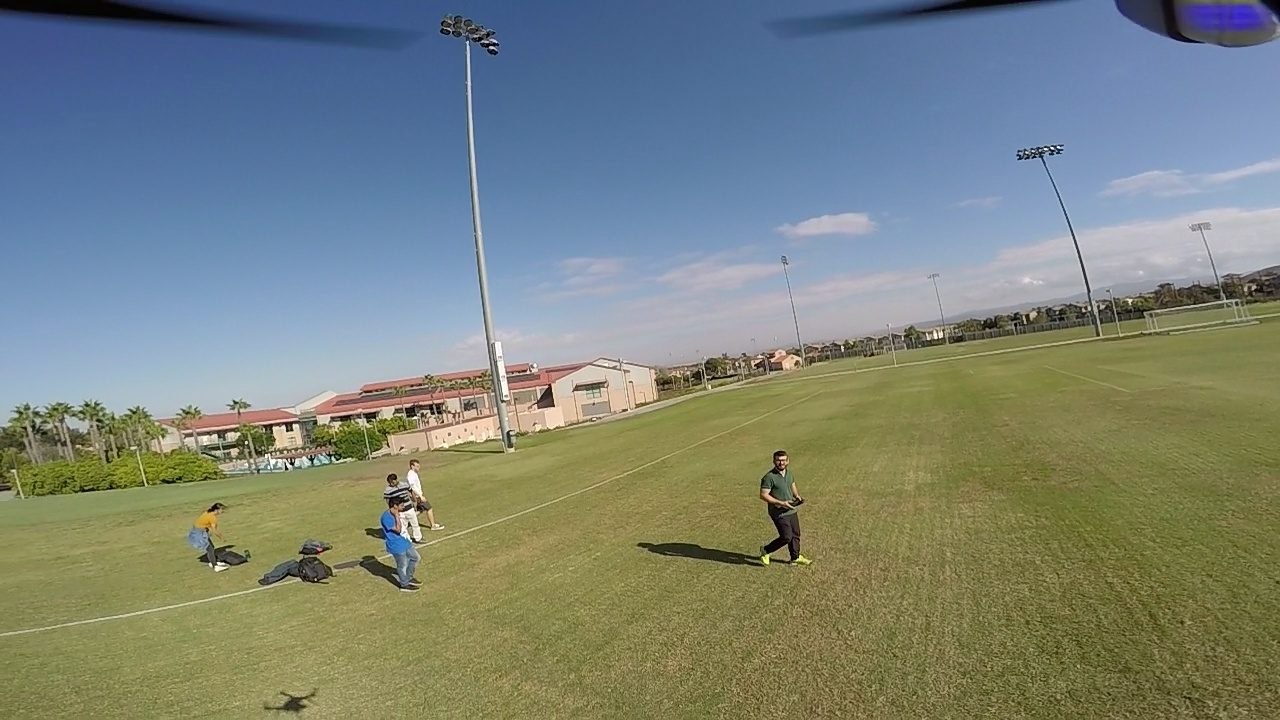person: (753, 448, 804, 568), (370, 491, 417, 586), (181, 500, 220, 560), (392, 459, 418, 508)
